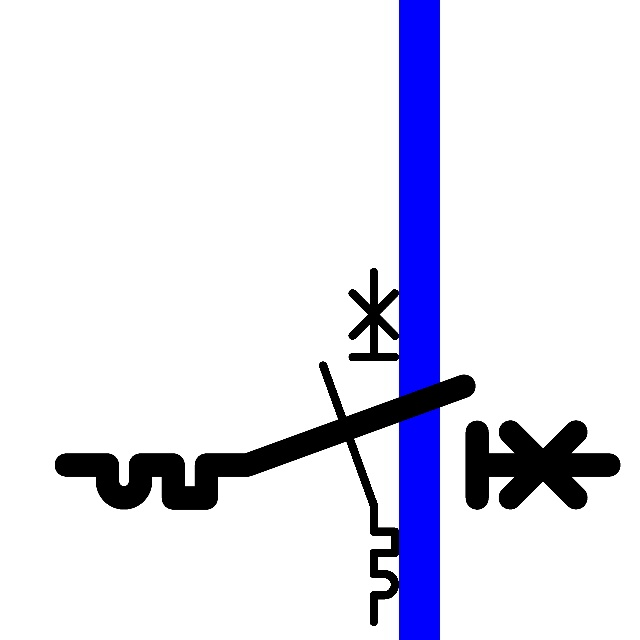interruptor_termomagnetico: (52, 372, 623, 512), (314, 263, 404, 631)
